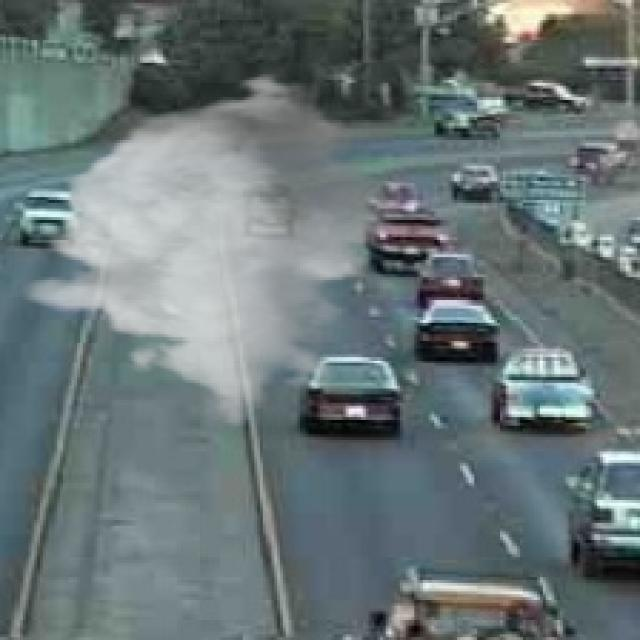Smoke: (17, 71, 412, 428)
